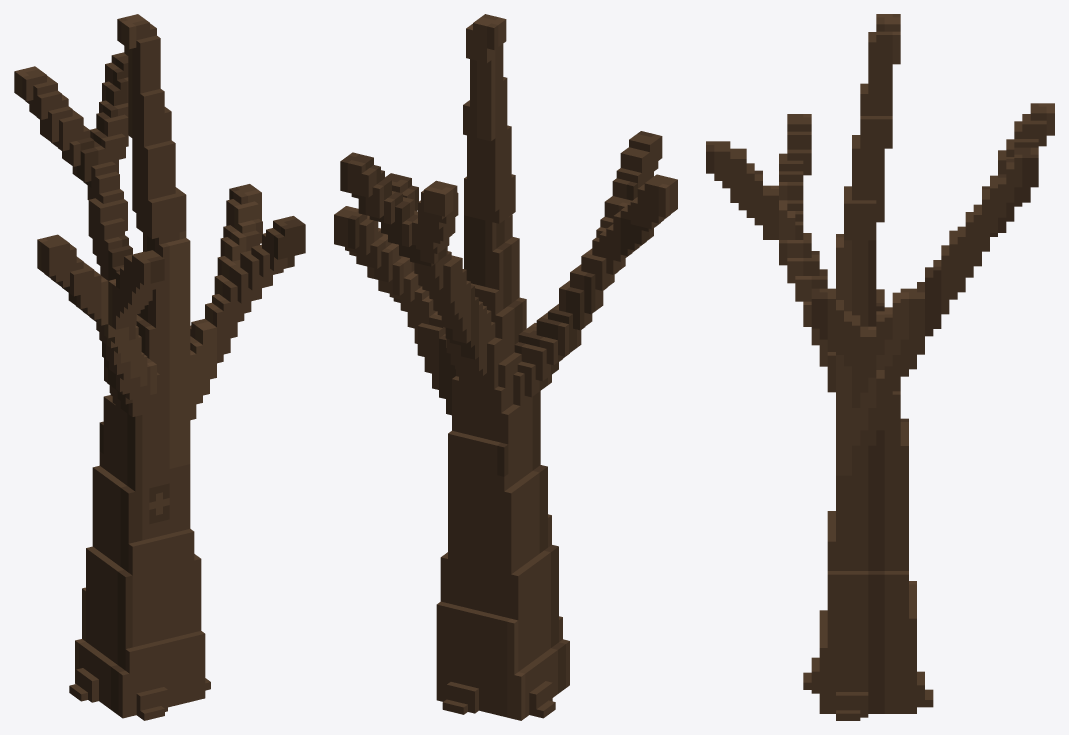
The model's file is apple_sapling_winter.glb.
3 renders of one model, left to right at view 1: azimuth 30°, elevation 25°; view 2: azimuth 150°, elevation 25°; view 3: azimuth 270°, elevation 25°, orthographic. The views are drawn at different scales.
Visible parts, largest first — view 1: VoxelVisual; view 2: VoxelVisual; view 3: VoxelVisual.
Boxes of the visible parts, <box> form: VoxelVisual: <box>14,14,305,720</box>; VoxelVisual: <box>334,14,677,720</box>; VoxelVisual: <box>706,14,1054,720</box>.
Size of what is drawn, in the model's own units: 2.44 by 5.75 by 2.69.
